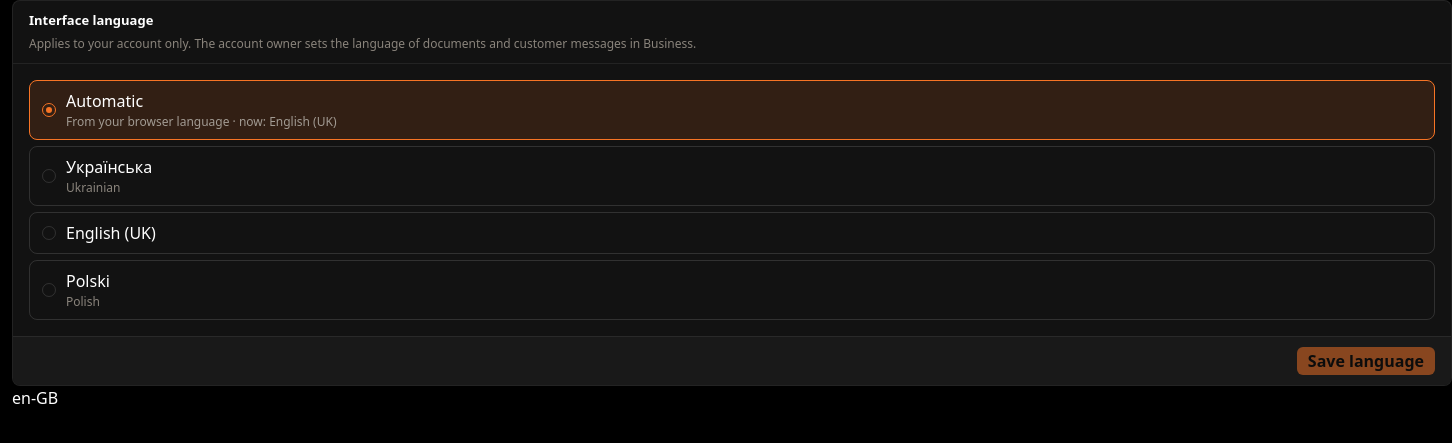
saves the chosen language to the profile and mirrors it on the device
Click the radio button labelled "Polski Polish" at (49, 290), box [42,282,56,296]
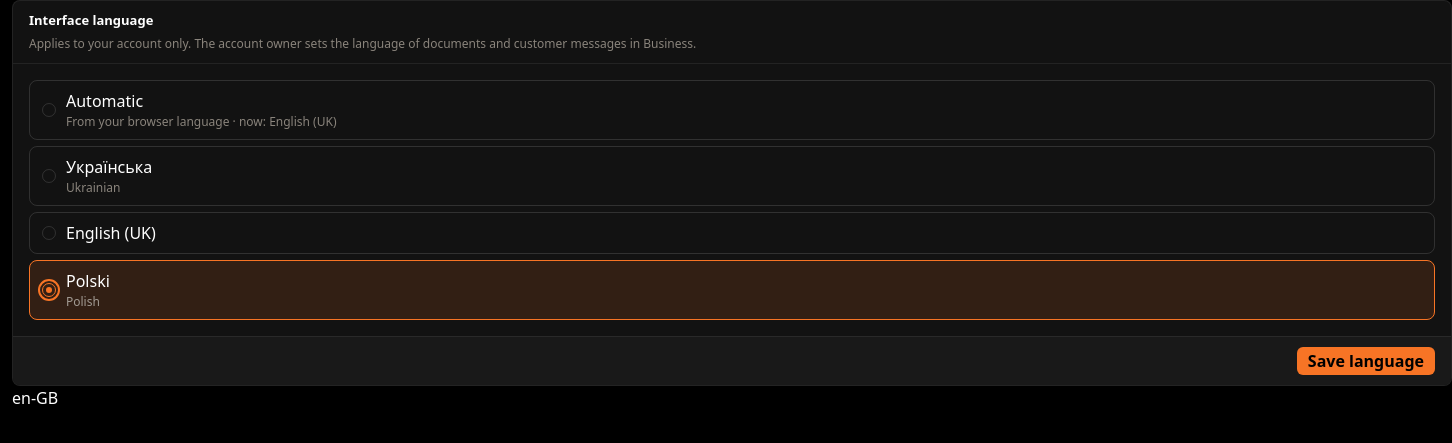
Click the button "Save language" at (1366, 360), box [1297,346,1435,374]
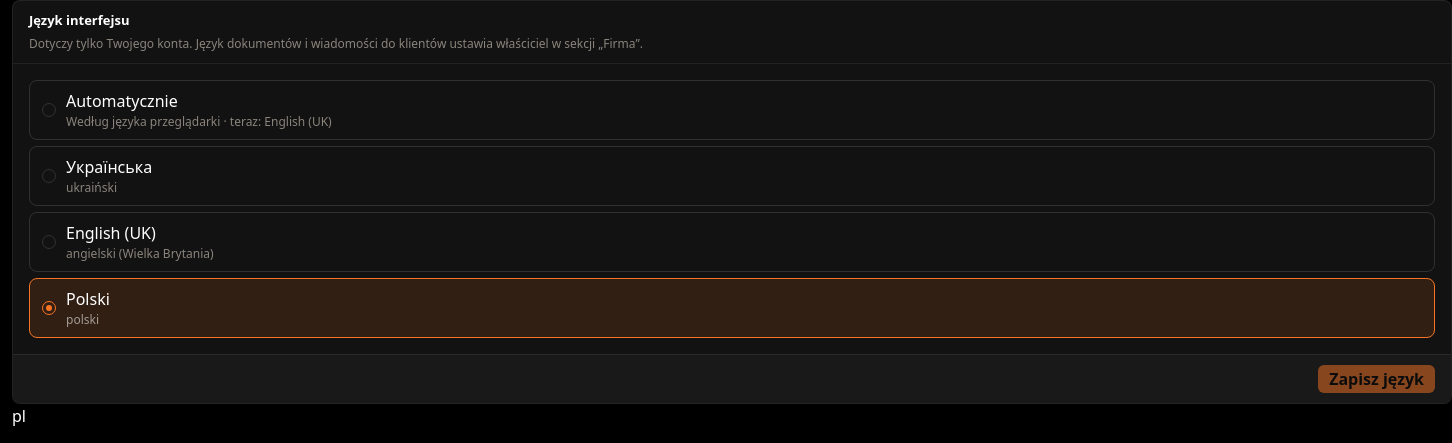
Result: the text with test id "locale" reads "pl" at [12,404,26,426]
